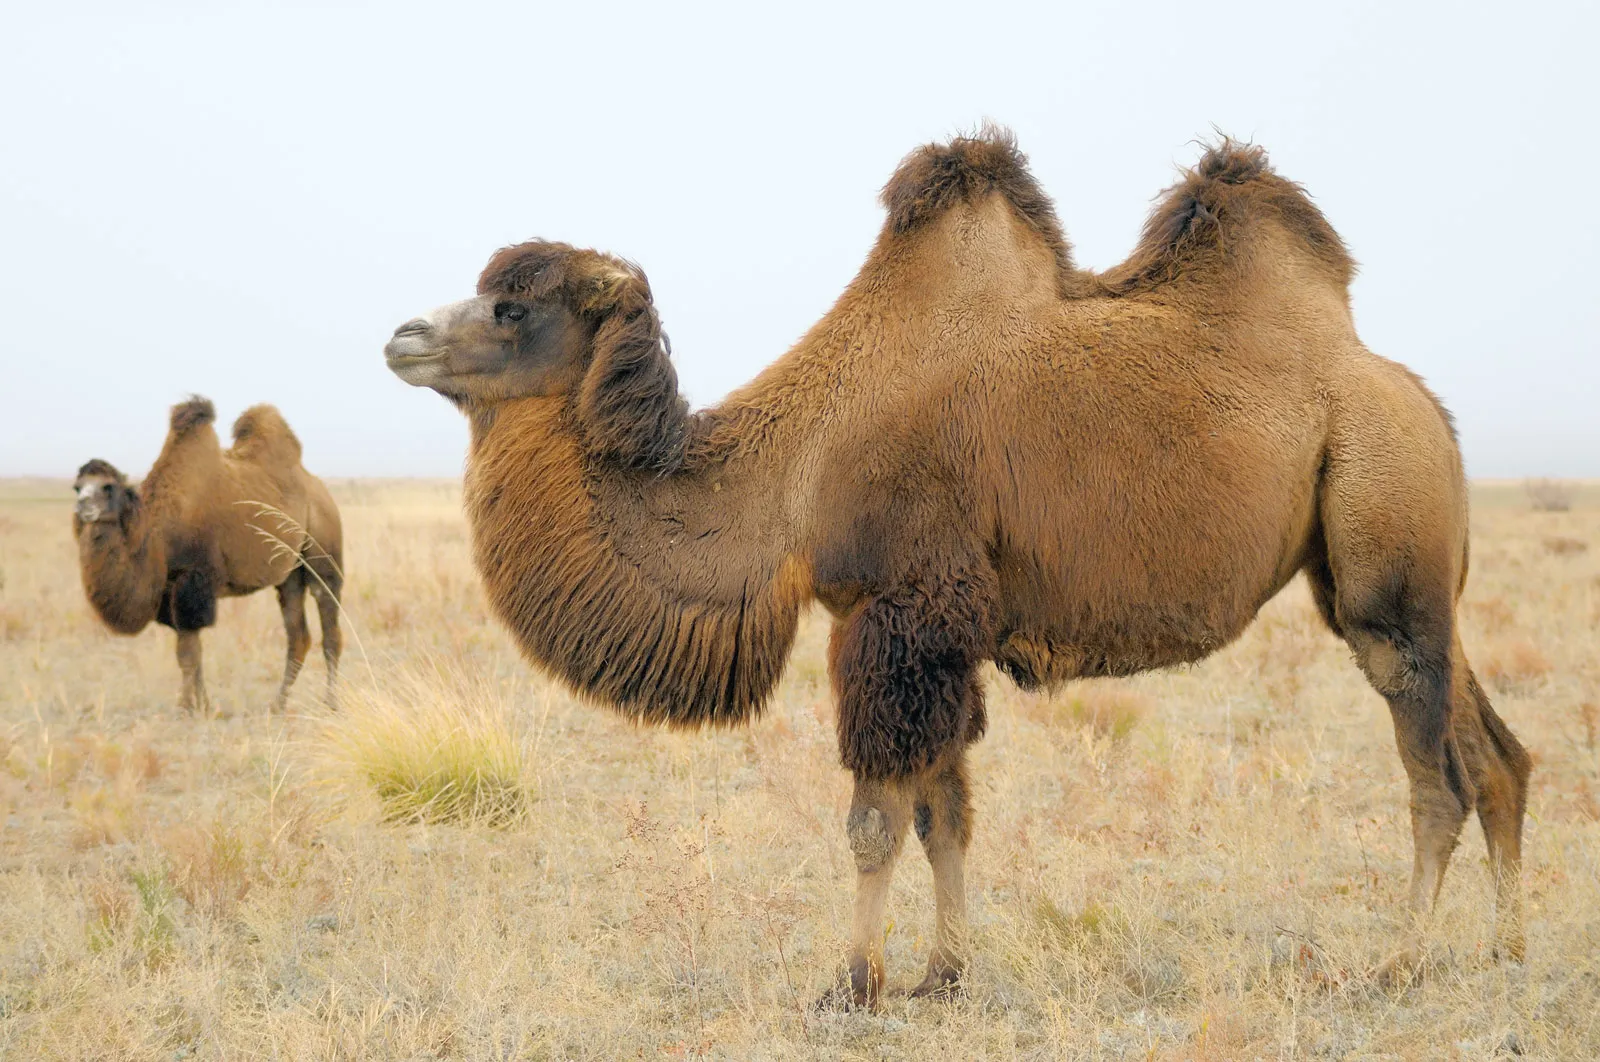camel: (379, 128, 1554, 997), (64, 392, 372, 737)
